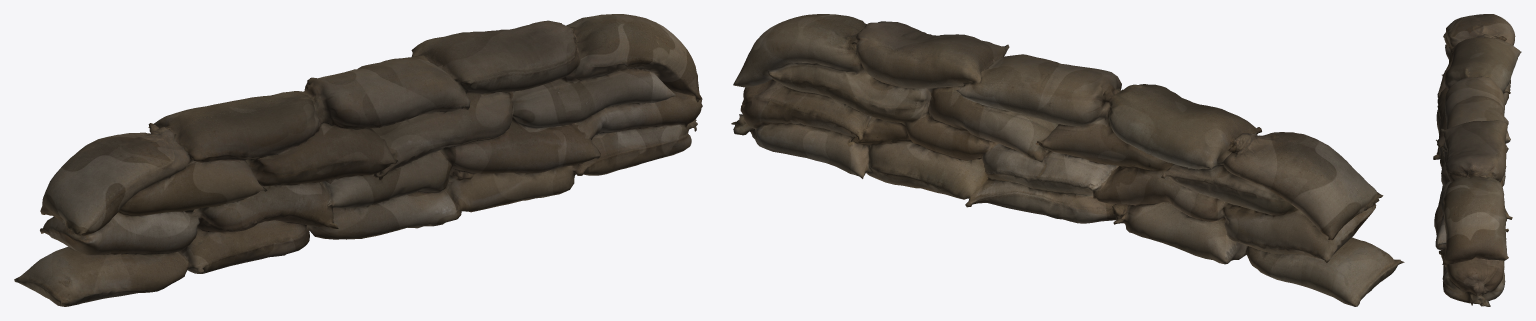
File: Sandbagwall.glb
The picture shows the model from 3 angles, left to right: view 1: azimuth 30°, elevation 25°; view 2: azimuth 150°, elevation 25°; view 3: azimuth 270°, elevation 25°; orthographic projection. The views are drawn at different scales.
Parts seen in each view (by area): view 1: SM_SBFlat; view 2: SM_SBFlat; view 3: SM_SBFlat.
Boxes of the visible parts, bbox=[...] form: SM_SBFlat: bbox=[14, 14, 702, 306]; SM_SBFlat: bbox=[731, 14, 1404, 306]; SM_SBFlat: bbox=[1433, 14, 1521, 306].
Size of the model in its own units: 4.59 by 1.03 by 0.7389.
1 material, 1 textured.
